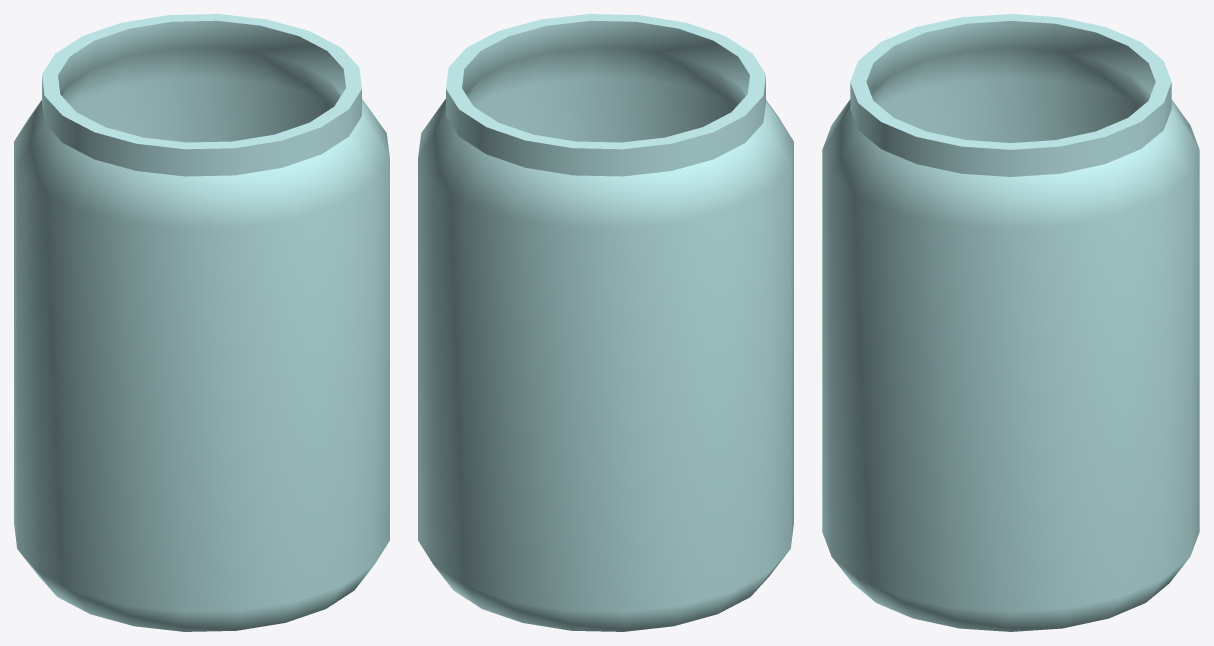
Rendered from jar_for_teeth.fbx.
3 renders of one model, left to right at view 1: azimuth 30°, elevation 25°; view 2: azimuth 150°, elevation 25°; view 3: azimuth 270°, elevation 25°, orthographic.
Visible parts, largest first — view 1: pPipe1; view 2: pPipe1; view 3: pPipe1.
Boxes of the visible parts, x1,y1,x2,y2 form: pPipe1: [14, 14, 389, 631]; pPipe1: [418, 14, 793, 631]; pPipe1: [822, 14, 1199, 631].
Bounding box in the file's own units: 2 × 2.81 × 2.
